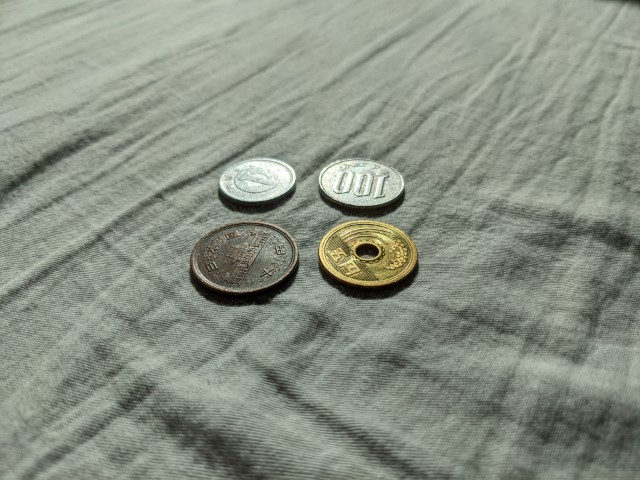100yen: (319, 159, 404, 209)
10yen: (190, 221, 298, 296)
1yen: (219, 158, 296, 205)
5yen: (319, 220, 417, 289)
